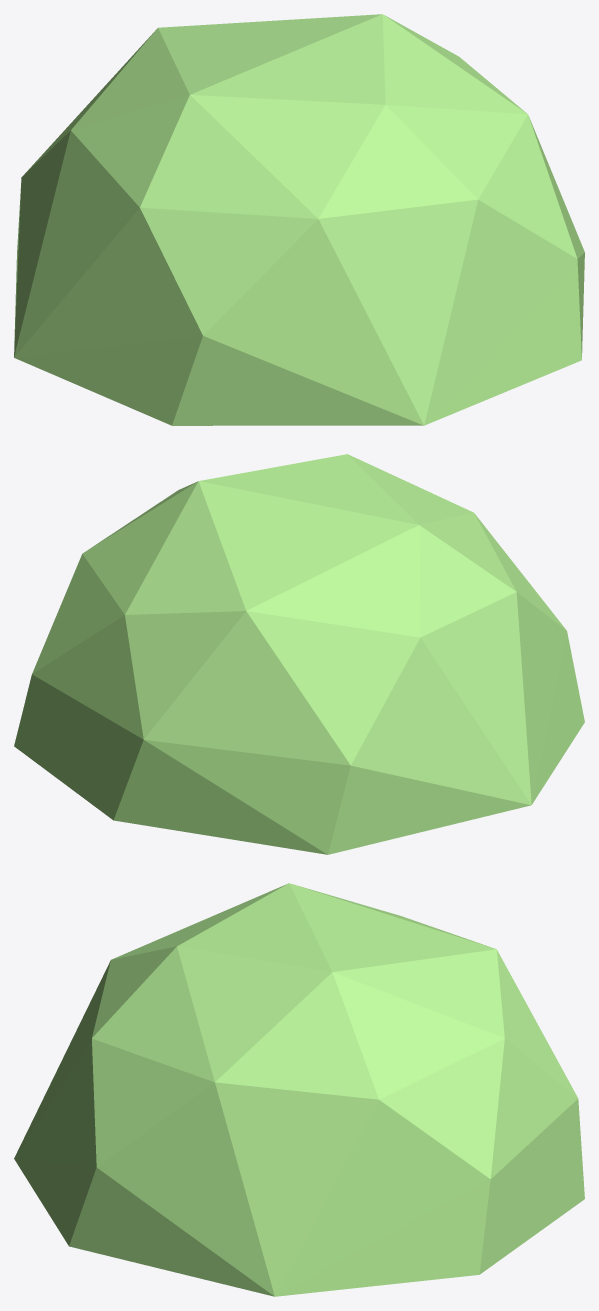
The model's file is Bush_h_m_07.fbx.
The picture shows the model from 3 angles, top to bottom: view 1: azimuth 30°, elevation 25°; view 2: azimuth 150°, elevation 25°; view 3: azimuth 270°, elevation 25°; orthographic projection. The views are drawn at different scales.
Parts seen in each view (by area): view 1: Bush_h_m_07; view 2: Bush_h_m_07; view 3: Bush_h_m_07.
Boxes of the visible parts, x1=… form: Bush_h_m_07: x1=14, y1=14, x2=584, y2=425; Bush_h_m_07: x1=14, y1=454, x2=584, y2=854; Bush_h_m_07: x1=14, y1=883, x2=584, y2=1296.
Bounding box in the file's own units: 129 × 59.67 × 125.
